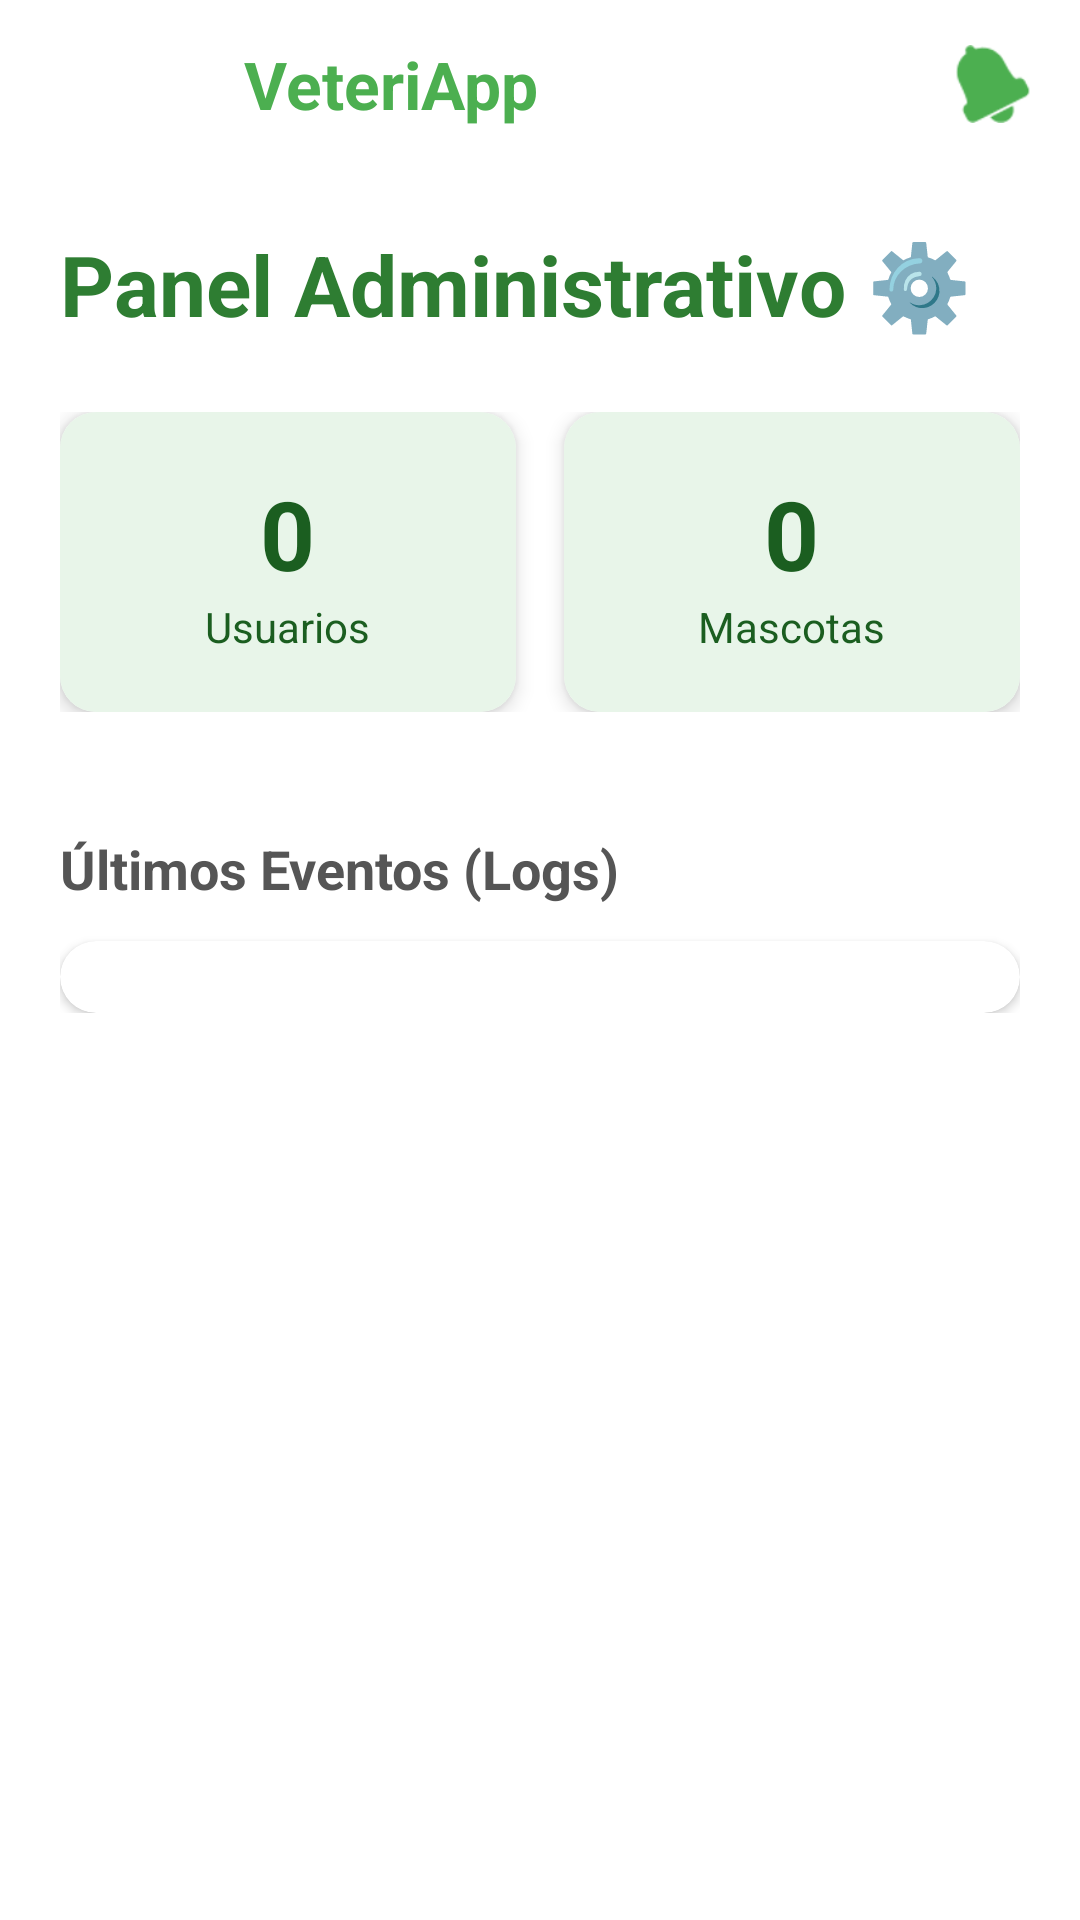

Screen size 1080px×1920px. Icon name, then its center in pixels as point (x, y):
popup reminder: point (993, 84)
